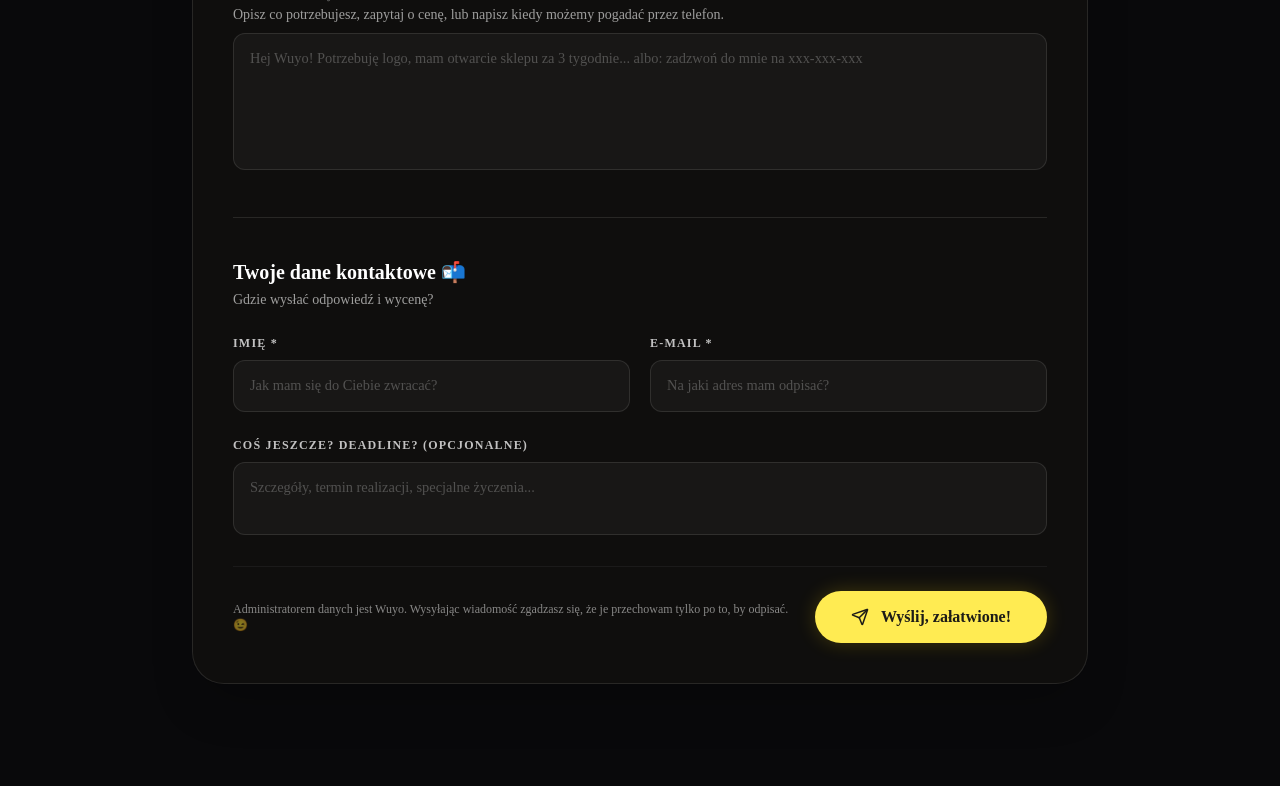
it: ContactBrief › TC-4 wysyła formularz i pokazuje ekran sukcesu
(page scrolled)
In the field labelled "Imię *": (432, 386) [233,360,630,412], type "Anna"
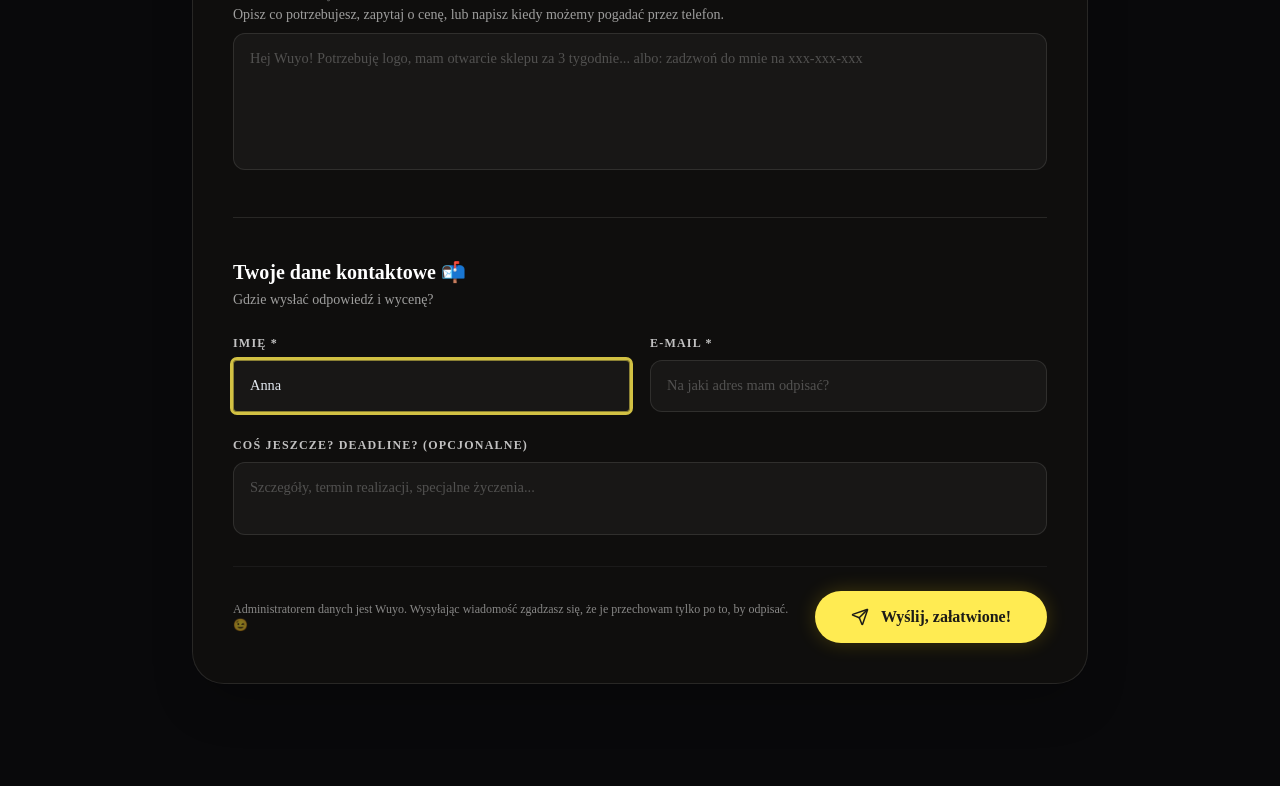
In the field labelled "E-mail *": (848, 386) [650,360,1047,412], type "anna@test.pl"
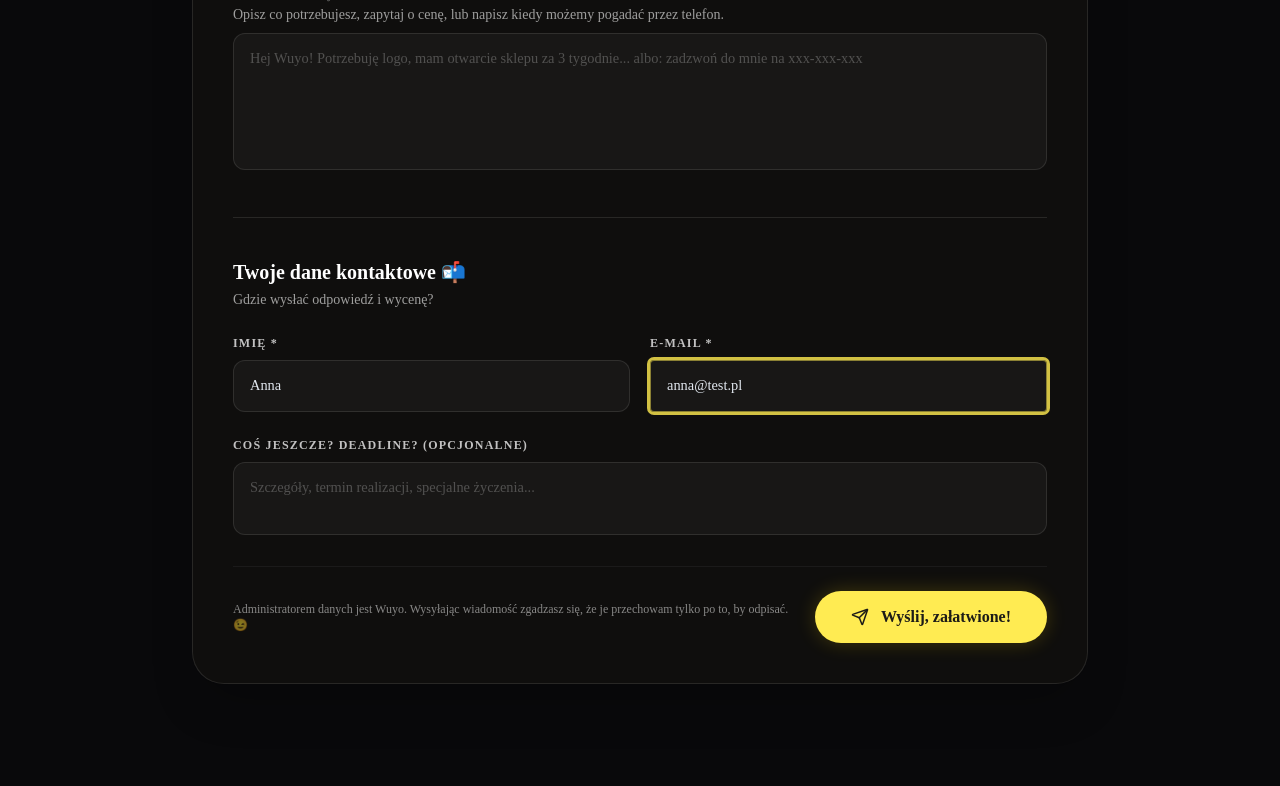
In the text box with placeholder "Hej Wuyo": (640, 101) [233,32,1047,170], type "Potrzebuję logo dla kawiarni"
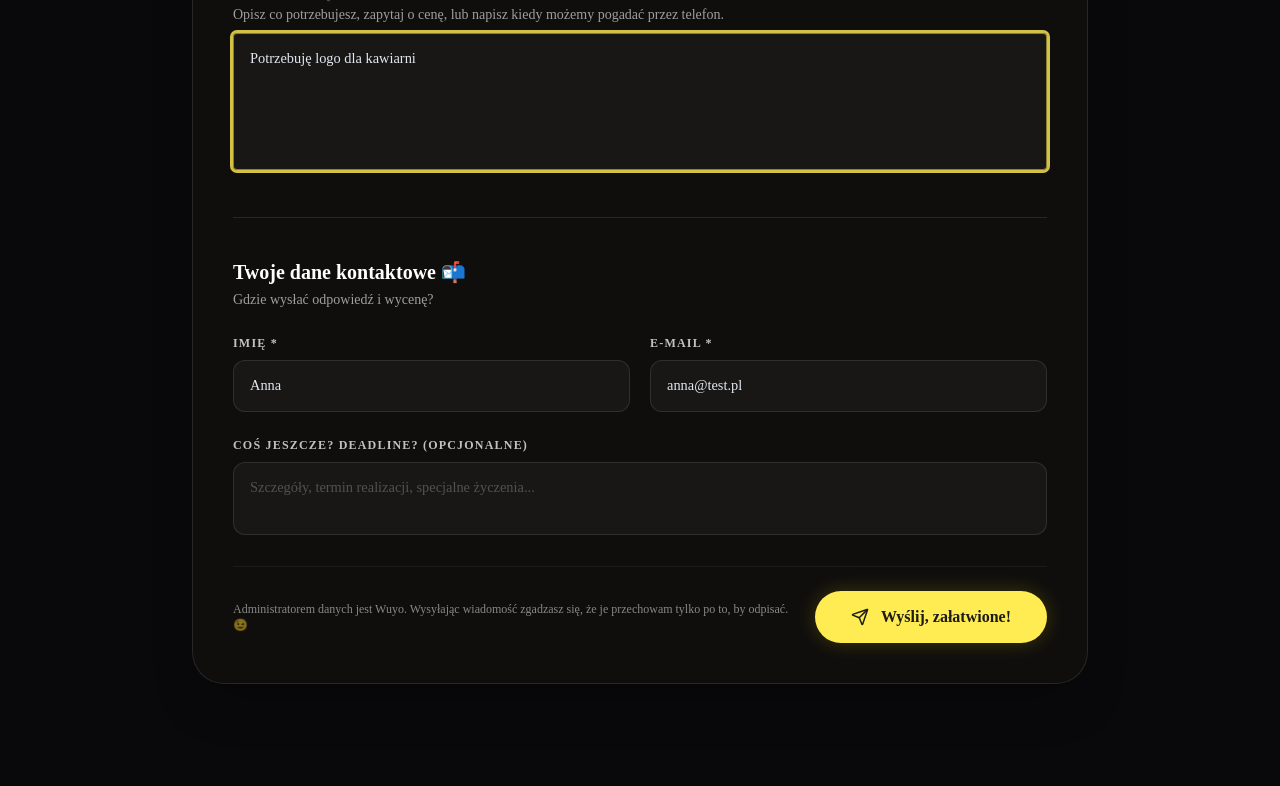
Click the button "Wyślij, załatwione!": (931, 617) [815,591,1047,643]
(page scrolled)
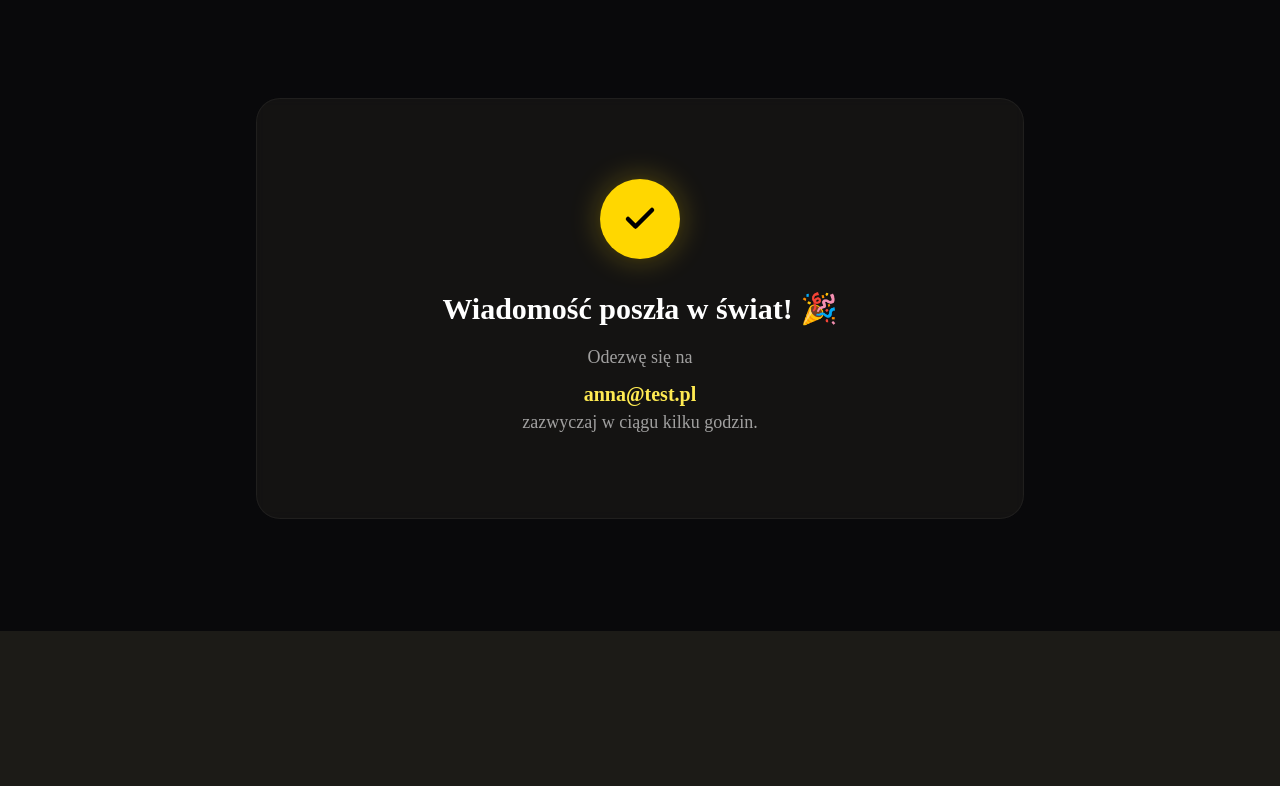
Check: the heading "Wiadomość poszła w świat! 🎉" is shown, box [442,292,838,325]
Check: the text "anna@test.pl" is shown, box [584,383,696,405]
